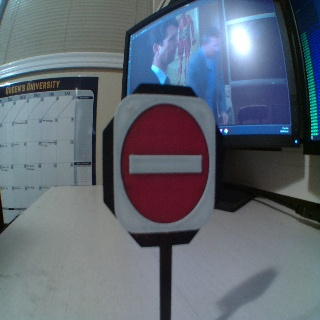sign_noentry: (116, 97, 213, 229)
